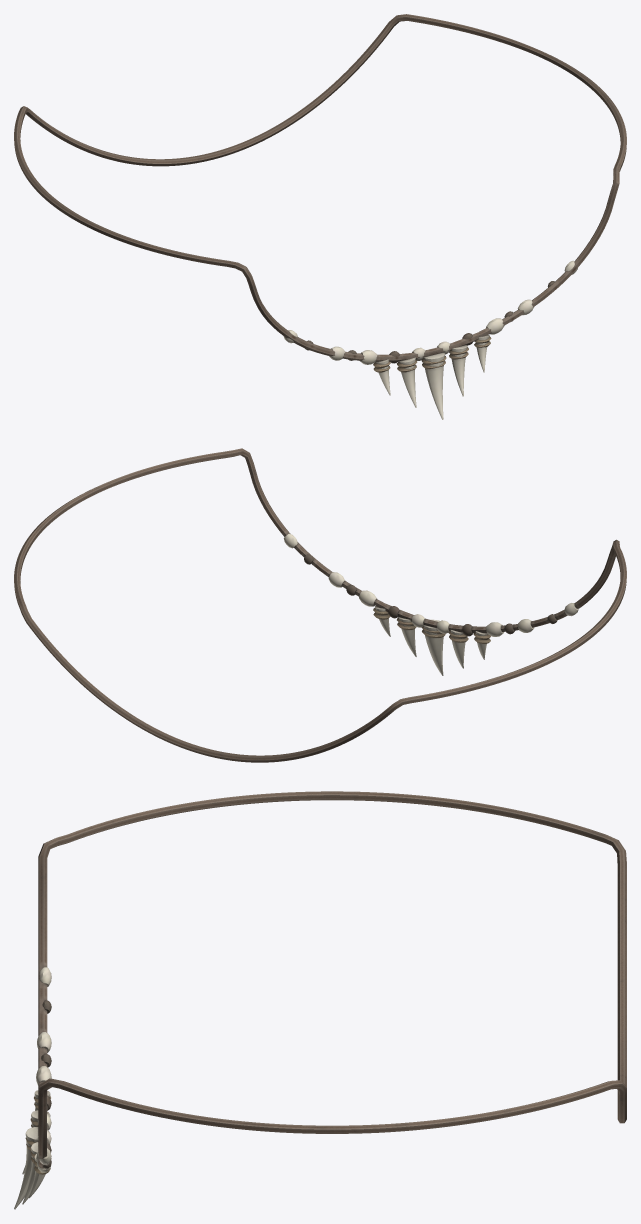
File: NHAcc_FangNecklace.fbx
3 views of the same model, one above another, from view 1: azimuth 30°, elevation 25°; view 2: azimuth 150°, elevation 25°; view 3: azimuth 270°, elevation 25° (orthographic). The views are drawn at different scales.
Visible parts, largest first — view 1: FangNecklace; view 2: FangNecklace; view 3: FangNecklace.
Part boxes in pixels (x1,y1,x2,y2): FangNecklace: [14, 14, 626, 419]; FangNecklace: [14, 448, 626, 762]; FangNecklace: [14, 791, 626, 1209].
Size of the model in its own units: 1.43 by 0.4967 by 1.1.
